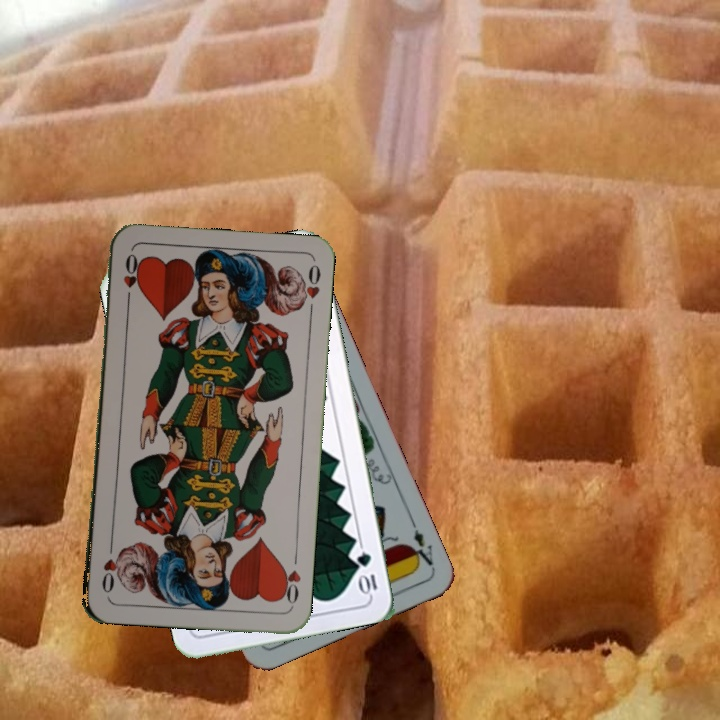EA: (405, 515, 437, 572)
G10: (353, 548, 380, 597)
HO: (276, 550, 304, 609), (119, 249, 140, 307)
